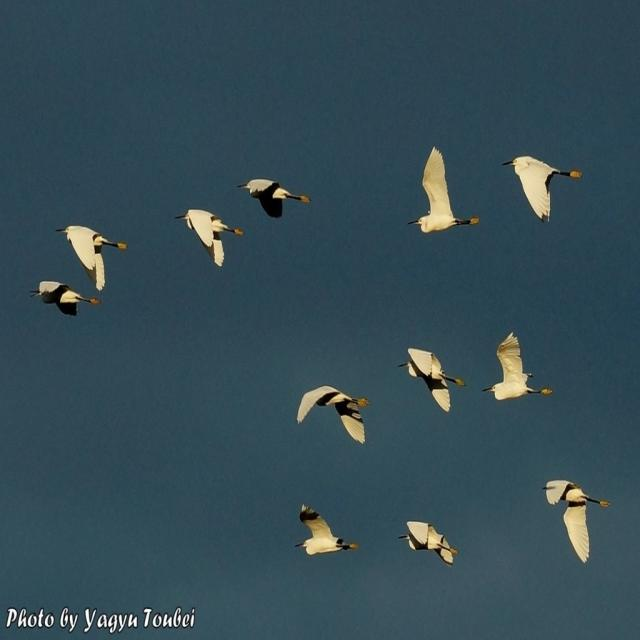bird: (414, 146, 482, 238), (53, 226, 129, 300), (548, 481, 611, 568), (506, 156, 583, 226), (481, 334, 557, 402), (398, 347, 468, 416), (176, 210, 245, 270), (294, 386, 370, 440), (296, 504, 358, 556), (239, 179, 314, 221), (399, 523, 460, 566), (31, 282, 102, 318)
